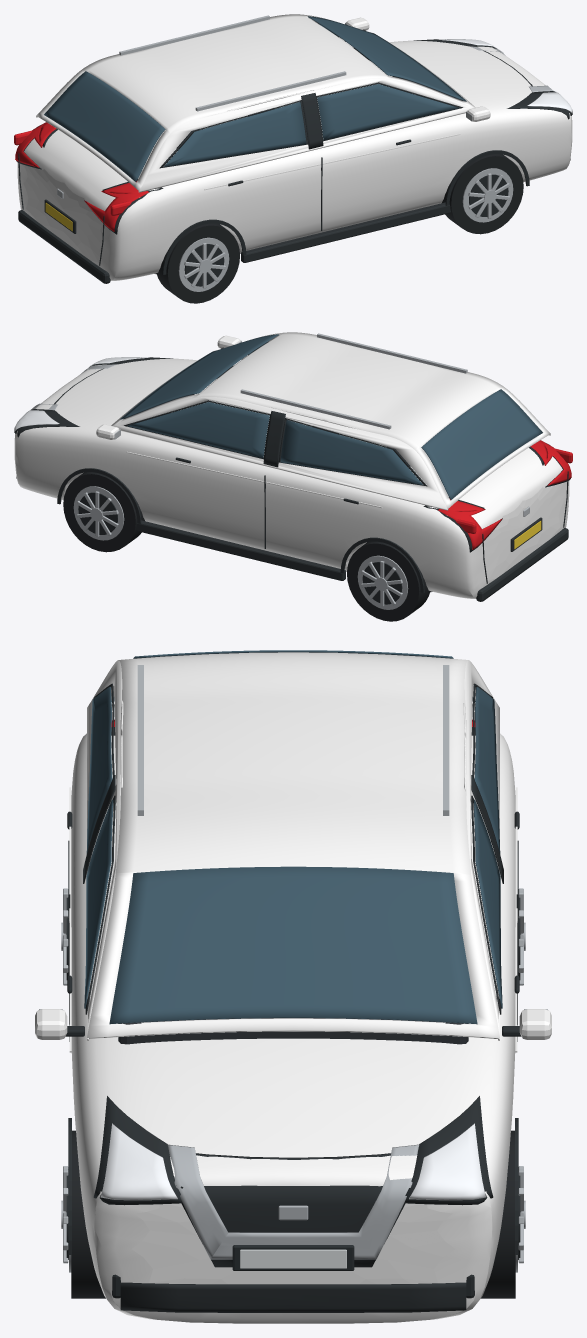
File: nissan-qashqai.glb
3 renders of one model, top to bottom at view 1: azimuth 30°, elevation 25°; view 2: azimuth 150°, elevation 25°; view 3: azimuth 270°, elevation 25°, orthographic. The views are drawn at different scales.
Parts seen in each view (by area): view 1: FleetBody, FleetGlass, FleetTrim, FleetRubber, FleetLights; view 2: FleetBody, FleetGlass, FleetTrim, FleetRubber, FleetLights; view 3: FleetBody, FleetGlass, FleetTrim, FleetLights, FleetRubber, FleetInterior.
Boxes of the visible parts, x1=… form: FleetBody: x1=17, y1=14, x2=572, y2=280; FleetGlass: x1=44, y1=16, x2=466, y2=181; FleetTrim: x1=16, y1=15, x2=572, y2=291; FleetRubber: x1=156, y1=154, x2=523, y2=303; FleetLights: x1=14, y1=39, x2=572, y2=231; FleetBody: x1=14, y1=332, x2=569, y2=598; FleetGlass: x1=120, y1=334, x2=542, y2=499; FleetTrim: x1=14, y1=333, x2=570, y2=609; FleetRubber: x1=63, y1=472, x2=430, y2=621; FleetLights: x1=14, y1=357, x2=572, y2=549; FleetBody: x1=35, y1=652, x2=551, y2=1323; FleetGlass: x1=84, y1=650, x2=502, y2=1024; FleetTrim: x1=39, y1=665, x2=547, y2=1312; FleetLights: x1=100, y1=719, x2=486, y2=1268; FleetRubber: x1=71, y1=1130, x2=515, y2=1298; FleetInterior: x1=118, y1=1018, x2=468, y2=1044.
Size of the model in its own units: 4.39 by 1.59 by 2.08.
